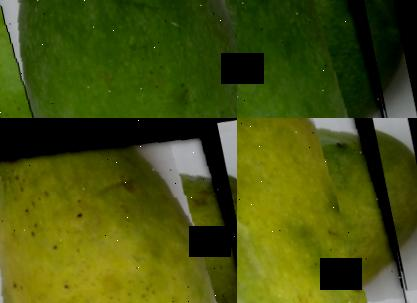PartiallyRipe: (0, 118, 237, 303), (237, 118, 410, 303)
Unripe: (0, 0, 237, 118), (237, 0, 392, 118)
